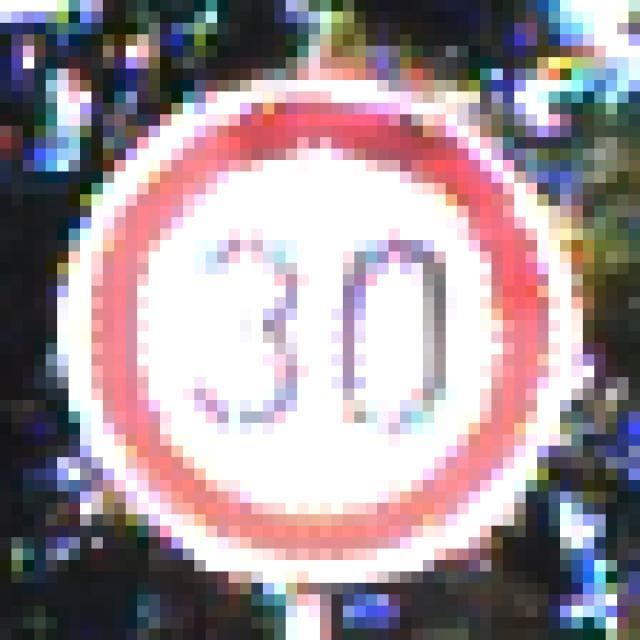Speed Limit -30-: (51, 62, 578, 578)
